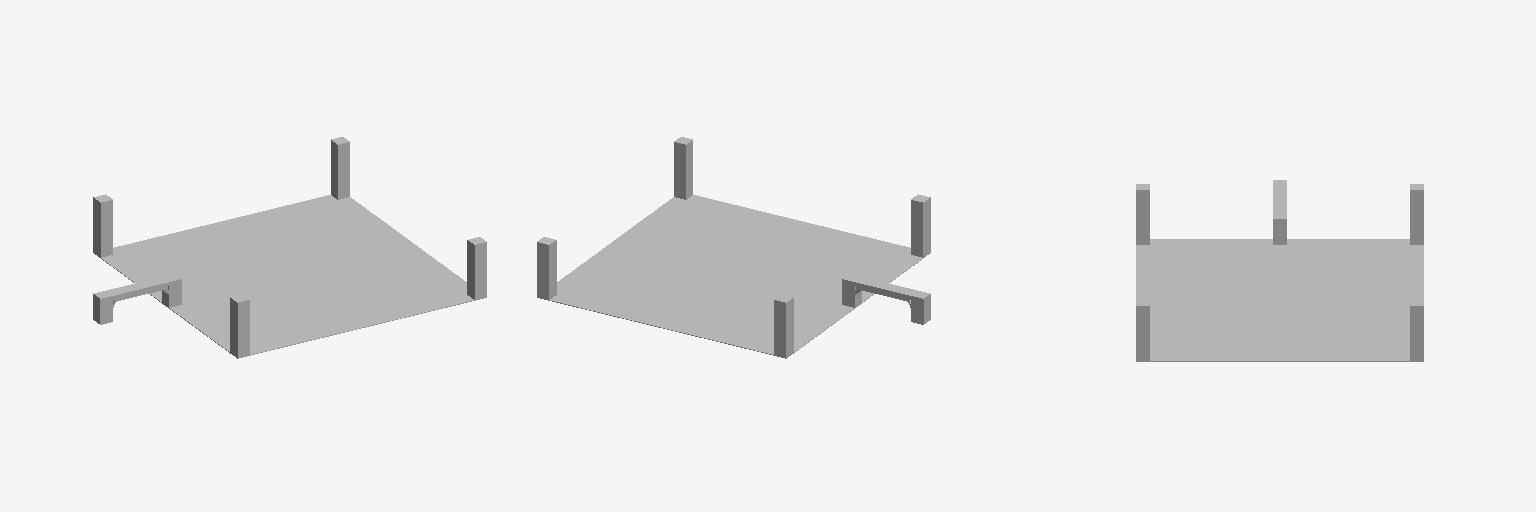
The model's file is LevelOne.obj.
3 renders of one model, left to right at view 1: azimuth 30°, elevation 25°; view 2: azimuth 150°, elevation 25°; view 3: azimuth 270°, elevation 25°, orthographic.
Parts seen in each view (by area): view 1: Boden, Pfeiler W_rfel_3, Pfeiler W_rfel_1, Pfeiler W_rfel, Pfeiler W_rfel_2, Anfahrt St_tzen W_rfel_11; view 2: Boden, Pfeiler W_rfel_1, Pfeiler W_rfel_3, Pfeiler W_rfel_2, Pfeiler W_rfel, Anfahrt St_tzen W_rfel_11; view 3: Boden, Pfeiler W_rfel_3, Pfeiler W_rfel_2, Pfeiler W_rfel_1, Pfeiler W_rfel.
Part boxes in pixels (bbox=[...]): Boden: bbox=[95, 195, 486, 358]; Pfeiler W_rfel_3: bbox=[93, 194, 112, 257]; Pfeiler W_rfel_1: bbox=[230, 295, 249, 357]; Pfeiler W_rfel: bbox=[467, 237, 486, 299]; Pfeiler W_rfel_2: bbox=[331, 137, 349, 199]; Anfahrt St_tzen W_rfel_11: bbox=[93, 291, 112, 324]; Boden: bbox=[537, 195, 929, 358]; Pfeiler W_rfel_1: bbox=[911, 194, 930, 257]; Pfeiler W_rfel_3: bbox=[774, 295, 793, 357]; Pfeiler W_rfel_2: bbox=[537, 237, 556, 299]; Pfeiler W_rfel: bbox=[674, 137, 692, 199]; Anfahrt St_tzen W_rfel_11: bbox=[911, 291, 930, 324]; Boden: bbox=[1136, 239, 1423, 361]; Pfeiler W_rfel_3: bbox=[1410, 184, 1423, 244]; Pfeiler W_rfel_2: bbox=[1410, 300, 1423, 360]; Pfeiler W_rfel_1: bbox=[1136, 184, 1149, 244]; Pfeiler W_rfel: bbox=[1136, 300, 1149, 360].
Size of the model in its own units: 51000000 by 8550000 by 40000000.